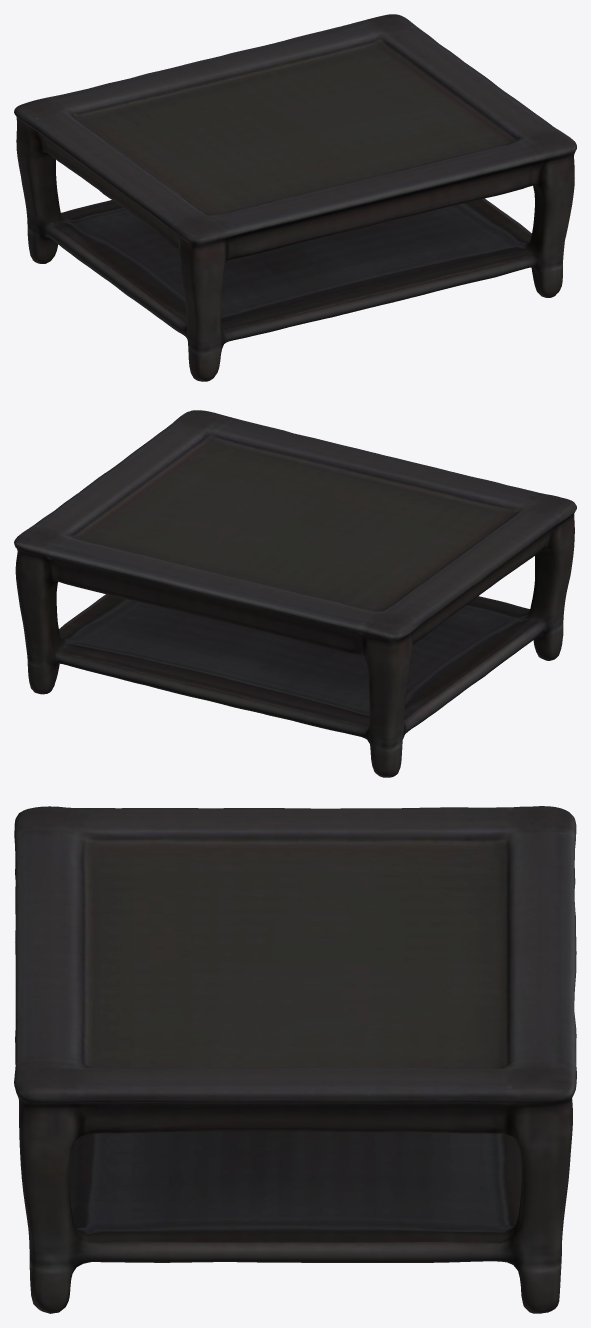
The model's file is 0f2a394ad98c_small_coffee_table_.fbx.
3 renders of one model, top to bottom at view 1: azimuth 30°, elevation 25°; view 2: azimuth 150°, elevation 25°; view 3: azimuth 270°, elevation 25°, orthographic. The views are drawn at different scales.
Parts seen in each view (by area): view 1: mesh; view 2: mesh; view 3: mesh.
Part boxes in pixels (x1,y1,x2,y2): mesh: (14, 14, 576, 381); mesh: (14, 410, 576, 777); mesh: (14, 806, 576, 1313).
Size of the model in its own units: 99.68 by 37.96 by 81.77.
